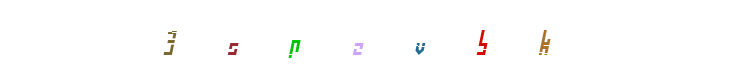3: (254, 0, 334, 80)
B: (346, 0, 426, 80)
K: (379, 0, 459, 80)
P: (330, 0, 410, 80)
S: (322, 0, 402, 80)
V: (345, 0, 425, 80)
Z: (332, 0, 412, 80)
